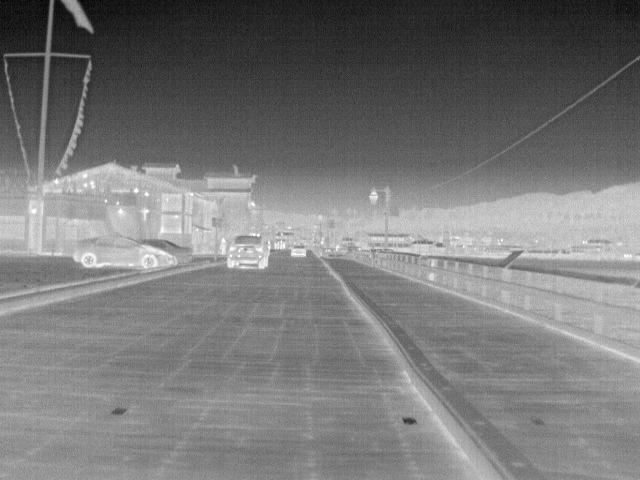car: (72, 234, 181, 272), (225, 231, 270, 270), (133, 239, 192, 264), (291, 244, 308, 258)
person: (219, 235, 227, 258)
